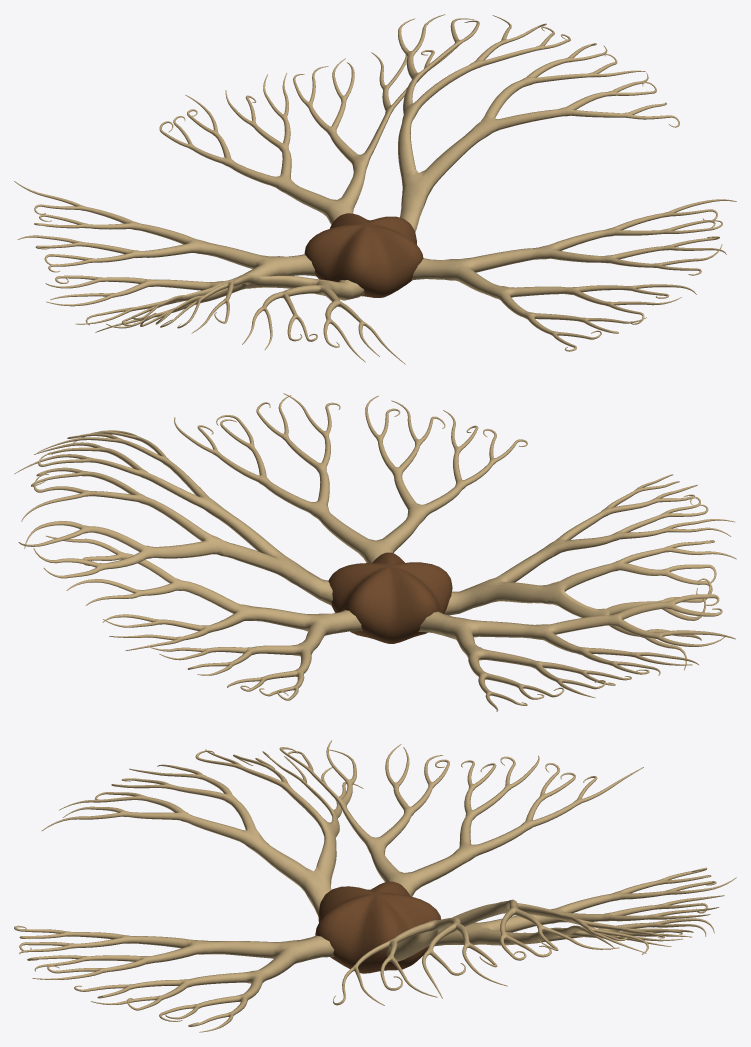
The model's file is NEW695_BasketStar_LOD2.glb.
3 views of the same model, one above another, from view 1: azimuth 30°, elevation 25°; view 2: azimuth 150°, elevation 25°; view 3: azimuth 270°, elevation 25° (orthographic). The views are drawn at different scales.
Visible parts, largest first — view 1: Basket_star_connected_five_primary_arms, Volumetric_central_disc_with_five_radial_shoulders; view 2: Basket_star_connected_five_primary_arms, Volumetric_central_disc_with_five_radial_shoulders; view 3: Basket_star_connected_five_primary_arms, Volumetric_central_disc_with_five_radial_shoulders.
Boxes of the visible parts, bbox=[...] form: Basket_star_connected_five_primary_arms: bbox=[14, 14, 736, 364]; Volumetric_central_disc_with_five_radial_shoulders: bbox=[304, 213, 423, 297]; Basket_star_connected_five_primary_arms: bbox=[14, 393, 736, 711]; Volumetric_central_disc_with_five_radial_shoulders: bbox=[328, 552, 452, 643]; Basket_star_connected_five_primary_arms: bbox=[14, 740, 736, 1032]; Volumetric_central_disc_with_five_radial_shoulders: bbox=[315, 881, 441, 973].
Size of the model in its own units: 0.3 by 0.0679 by 0.2813.
1 material, 1 textured.
